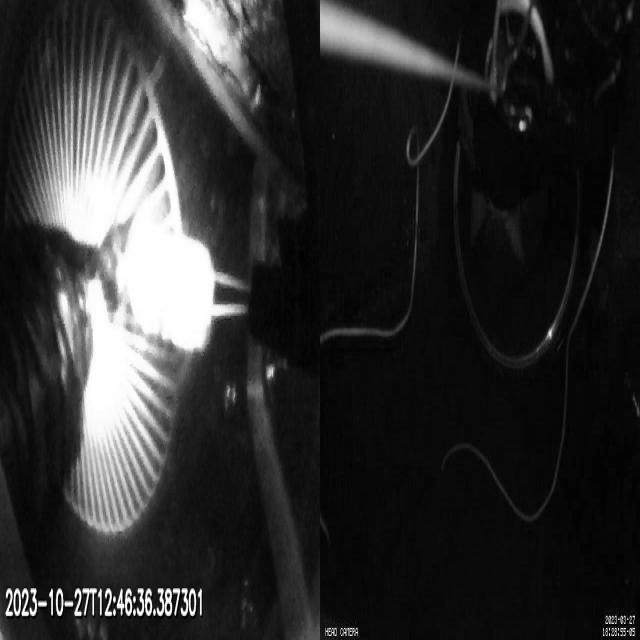head: (129, 214, 214, 354)
